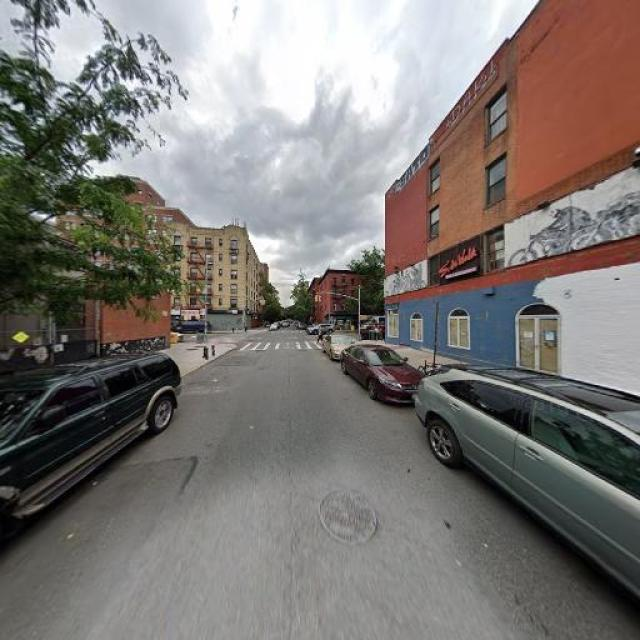Building: (388, 1, 640, 409), (1, 245, 168, 393)
